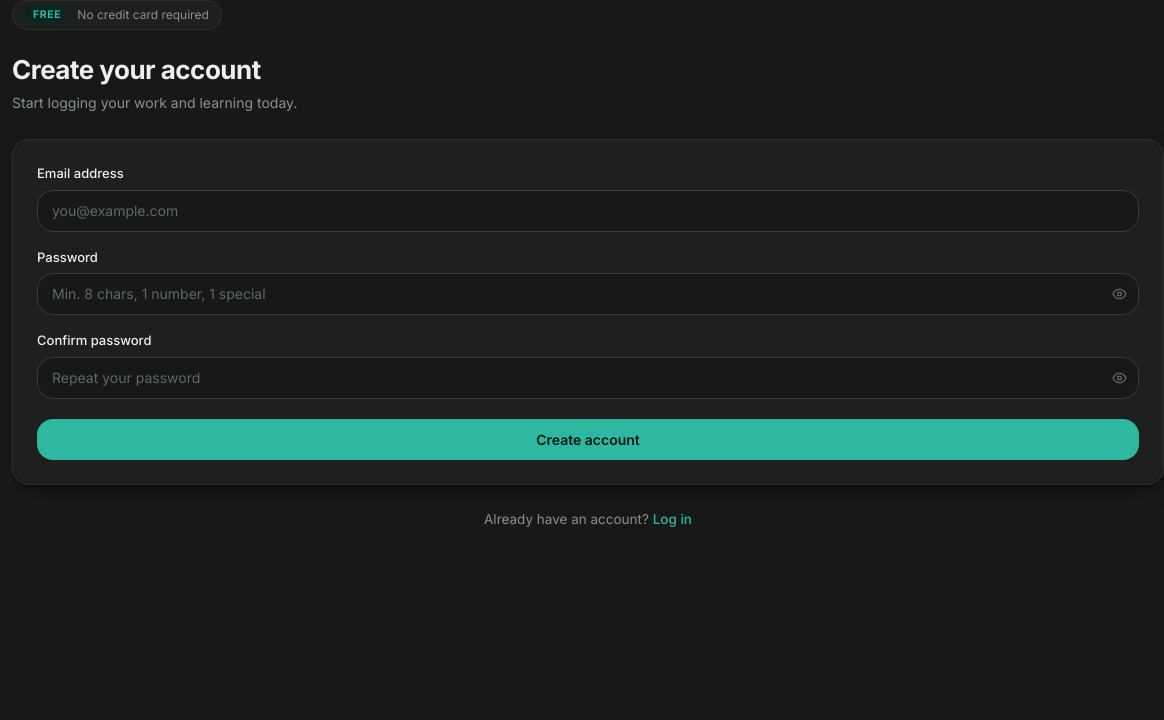
Test: RegisterForm › shows a password mismatch error when passwords differ
Step 1. Type "user@example.com" into the field labelled "Email address" → (588, 210), box [37,190,1139,232]
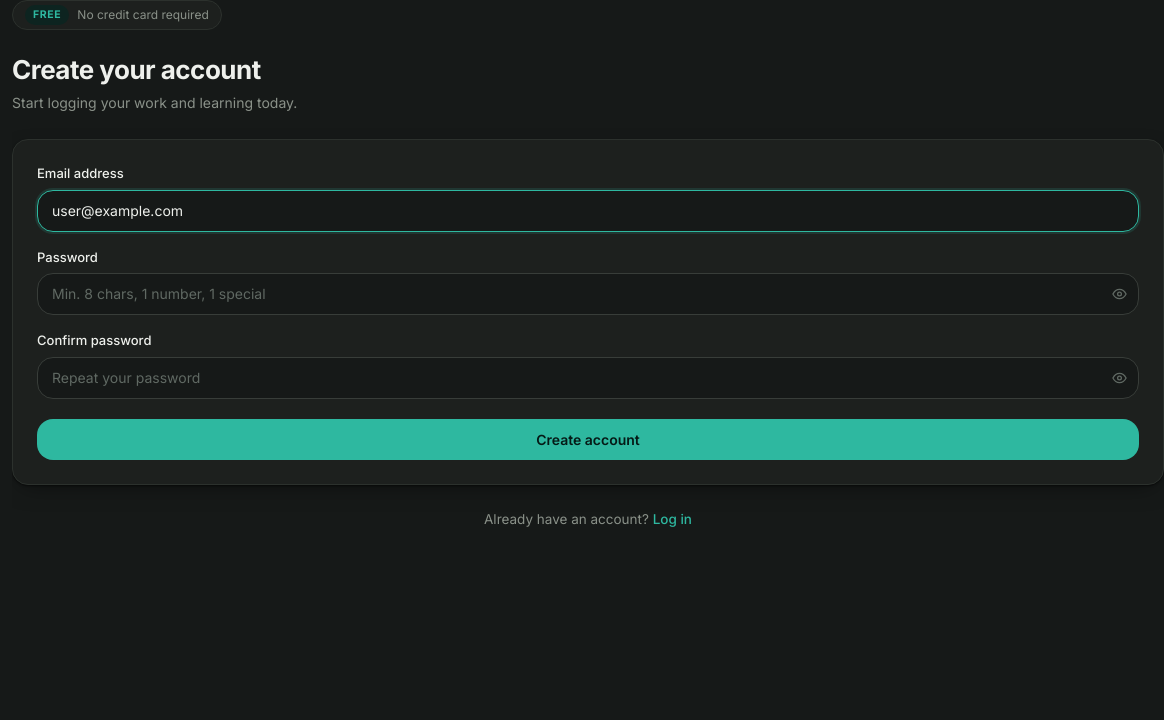
Step 2. Type "Password1!" into the password field labelled "Password" → (588, 294), box [37,273,1139,315]
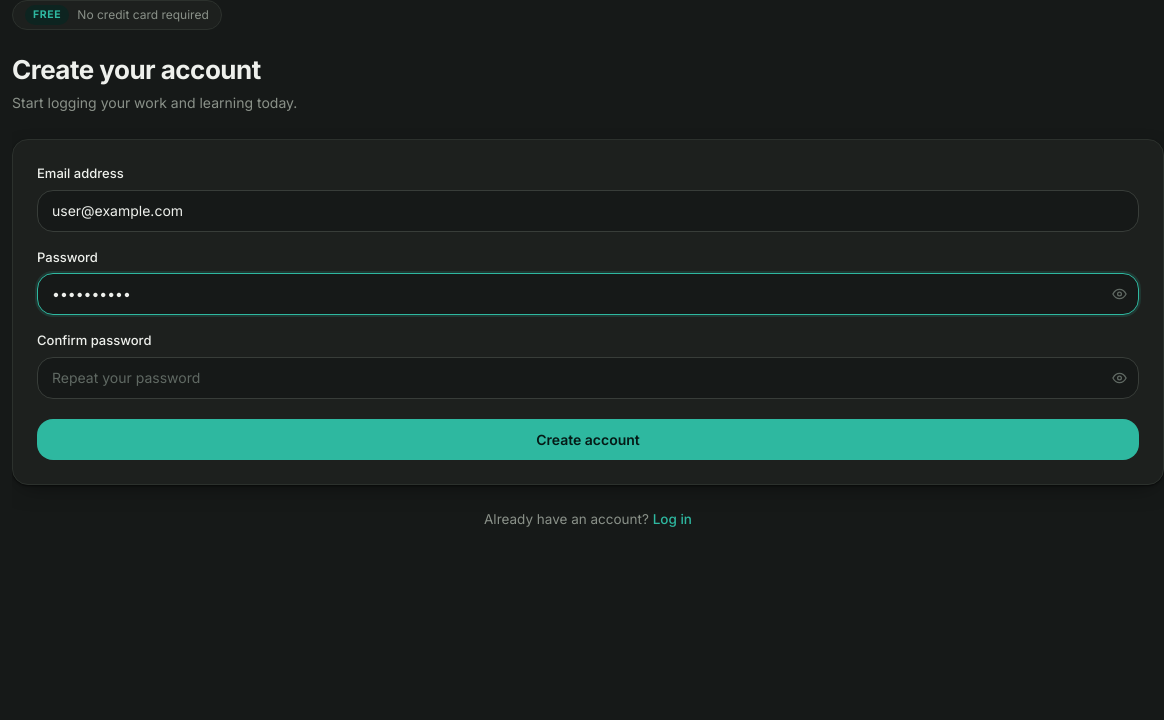
Step 3. Type "Different1!" into the password field labelled "Confirm password" → (588, 378), box [37,356,1139,398]
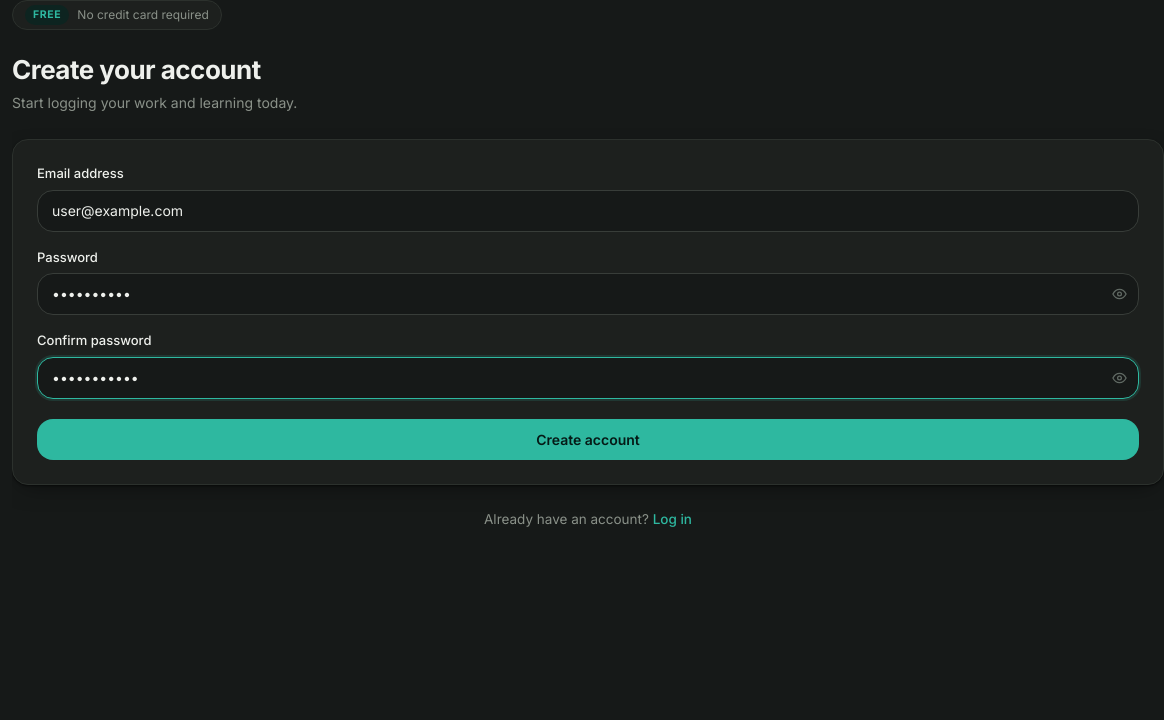
Step 4. Click the button "Create account" → (588, 439), box [37,418,1139,460]
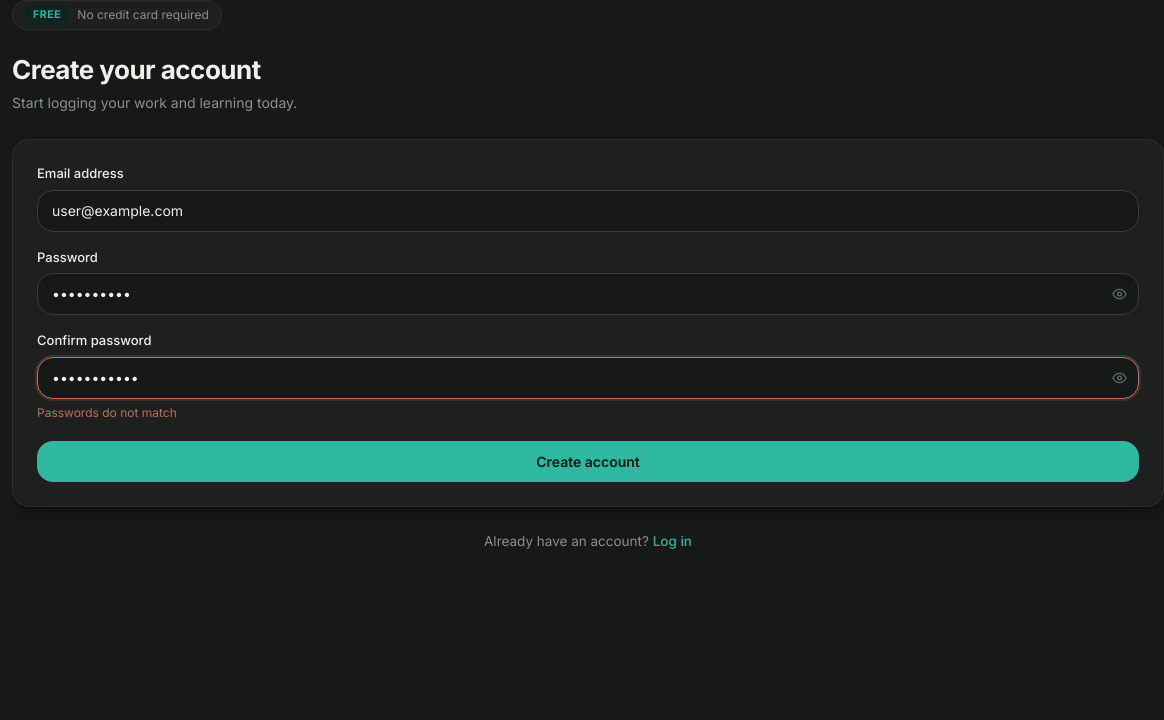
Expected: the text "Passwords do not match" is shown, [37,404,177,420]
